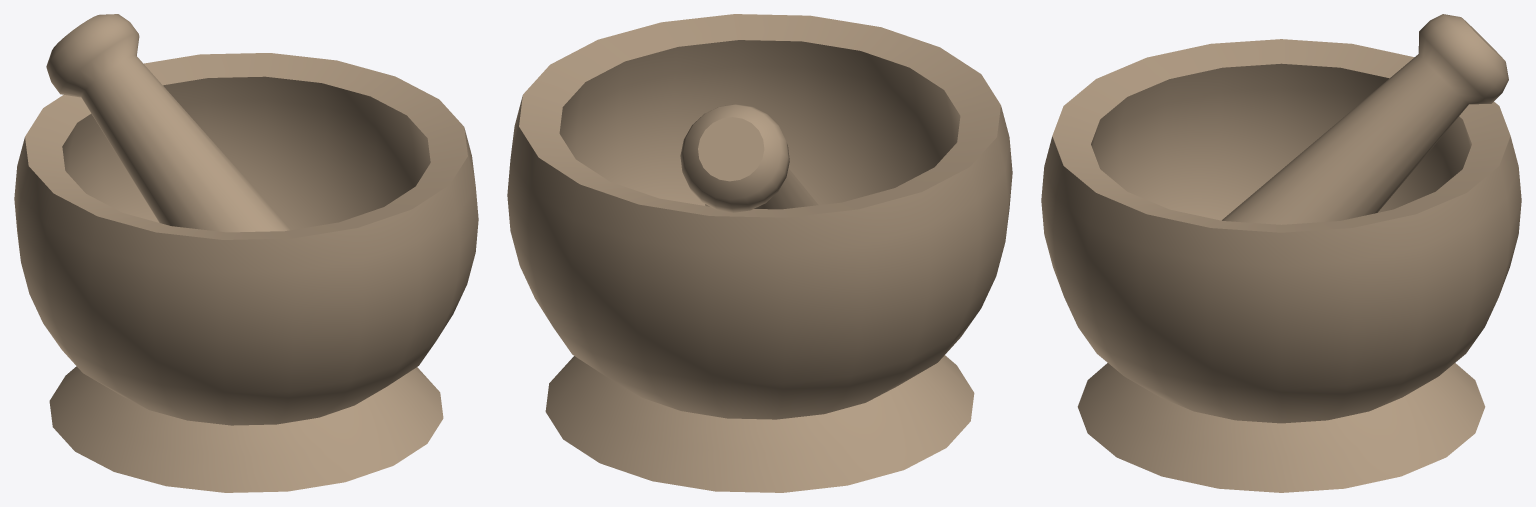
File: Mortero_blocking.fbx
3 views of the same model, side by side, from view 1: azimuth 30°, elevation 25°; view 2: azimuth 150°, elevation 25°; view 3: azimuth 270°, elevation 25° (orthographic). The views are drawn at different scales.
Visible parts, largest first — view 1: pSphere2, pCylinder163; view 2: pSphere2, pCylinder163; view 3: pSphere2, pCylinder163.
Part boxes in pixels (x1,y1,x2,y2): pSphere2: (14,53,478,492); pCylinder163: (46,14,290,232); pSphere2: (507,14,1012,492); pCylinder163: (680,104,818,212); pSphere2: (1041,39,1521,492); pCylinder163: (1222,14,1508,224).
Size of the model in its own units: 1.23 by 1 by 1.23.
